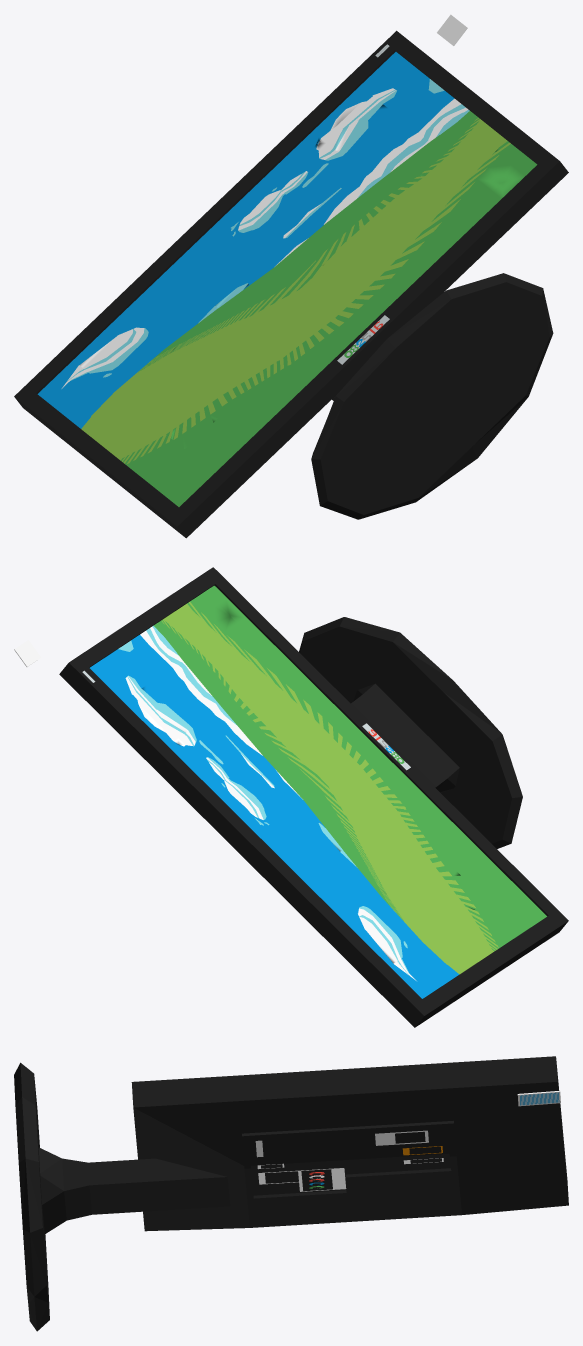
3 renders of one model, top to bottom at view 1: azimuth 30°, elevation 25°; view 2: azimuth 150°, elevation 25°; view 3: azimuth 270°, elevation 25°, orthographic. The views are drawn at different scales.
Visible parts, largest first — view 1: tvNode; view 2: tvNode; view 3: tvNode.
Boxes of the visible parts, box(x1,y1,x2,y2) form: tvNode: box(14, 14, 568, 538); tvNode: box(14, 567, 568, 1027); tvNode: box(14, 1056, 568, 1331).
Bounding box in the file's own units: 0.9818 × 0.8054 × 0.6652.
